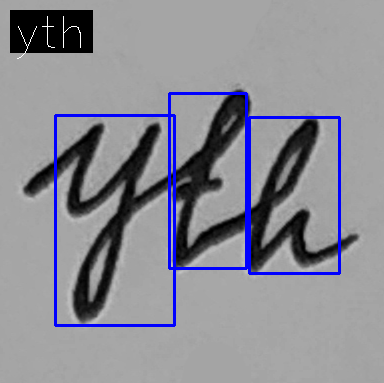h: (243, 112, 326, 274)
t: (170, 86, 252, 271)
y: (60, 117, 165, 327)
